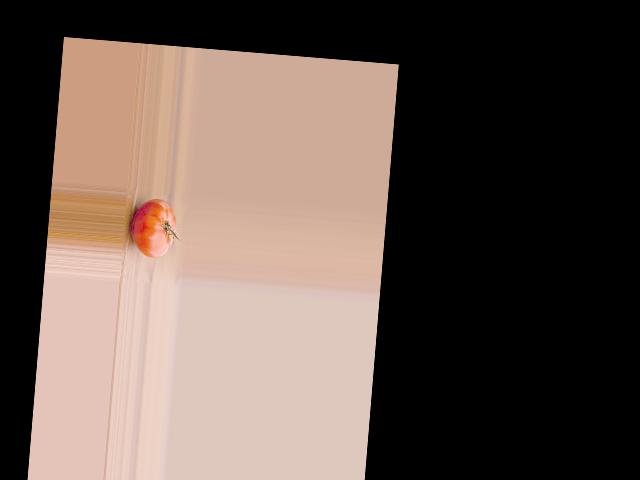tomato: (128, 197, 178, 260)
